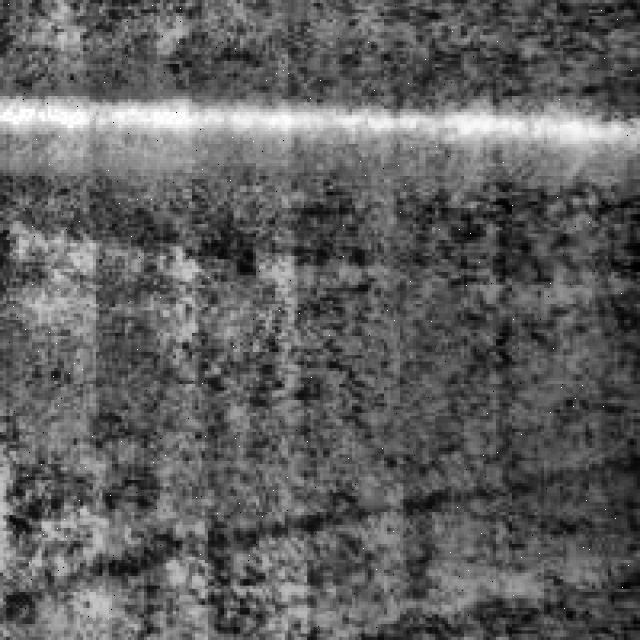Inclusion: (6, 84, 637, 166)
